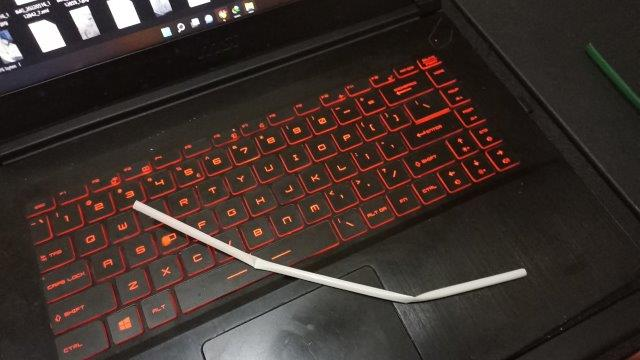sedotan: (134, 201, 526, 302)
